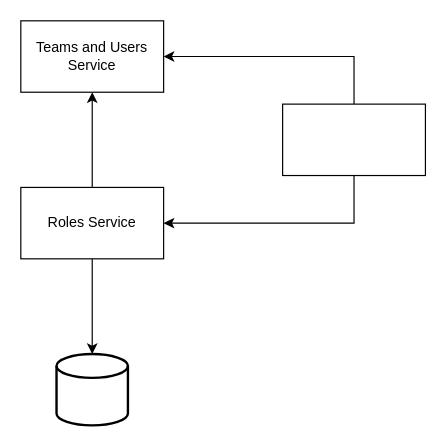
The diagram is 446 pixels wide and 447 high, and some of its shapes have lost their labels. Here are the shapes that lost their labels. From the top down, the centre of each, then its label:
(x=353, y=139): API Gateway
(x=92, y=389): RDMS
